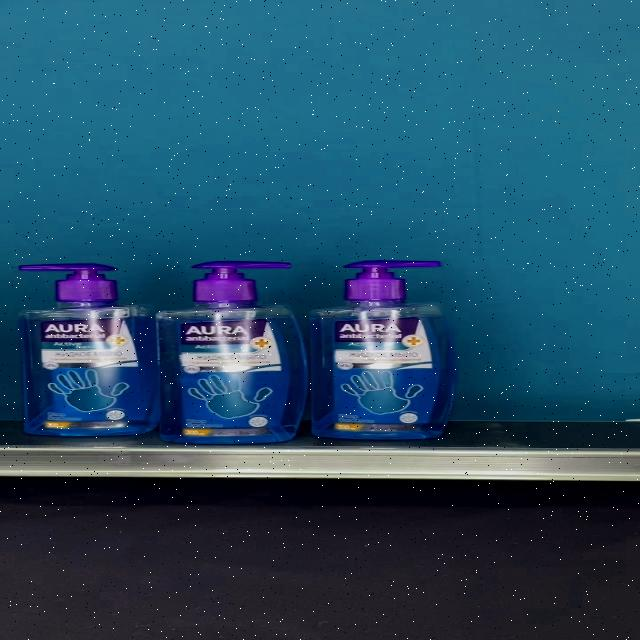Bottle: (158, 260, 309, 443), (309, 259, 455, 439), (17, 263, 161, 436)
Cap: (190, 260, 289, 302), (344, 259, 444, 300), (18, 263, 116, 301)
